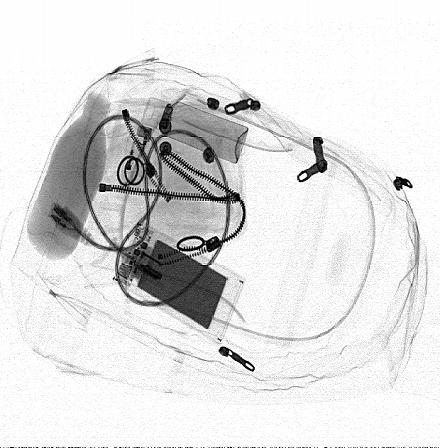Lighter: (116, 123, 156, 207)
Powerbank: (113, 221, 246, 346)
Sprayer: (141, 95, 249, 166)
